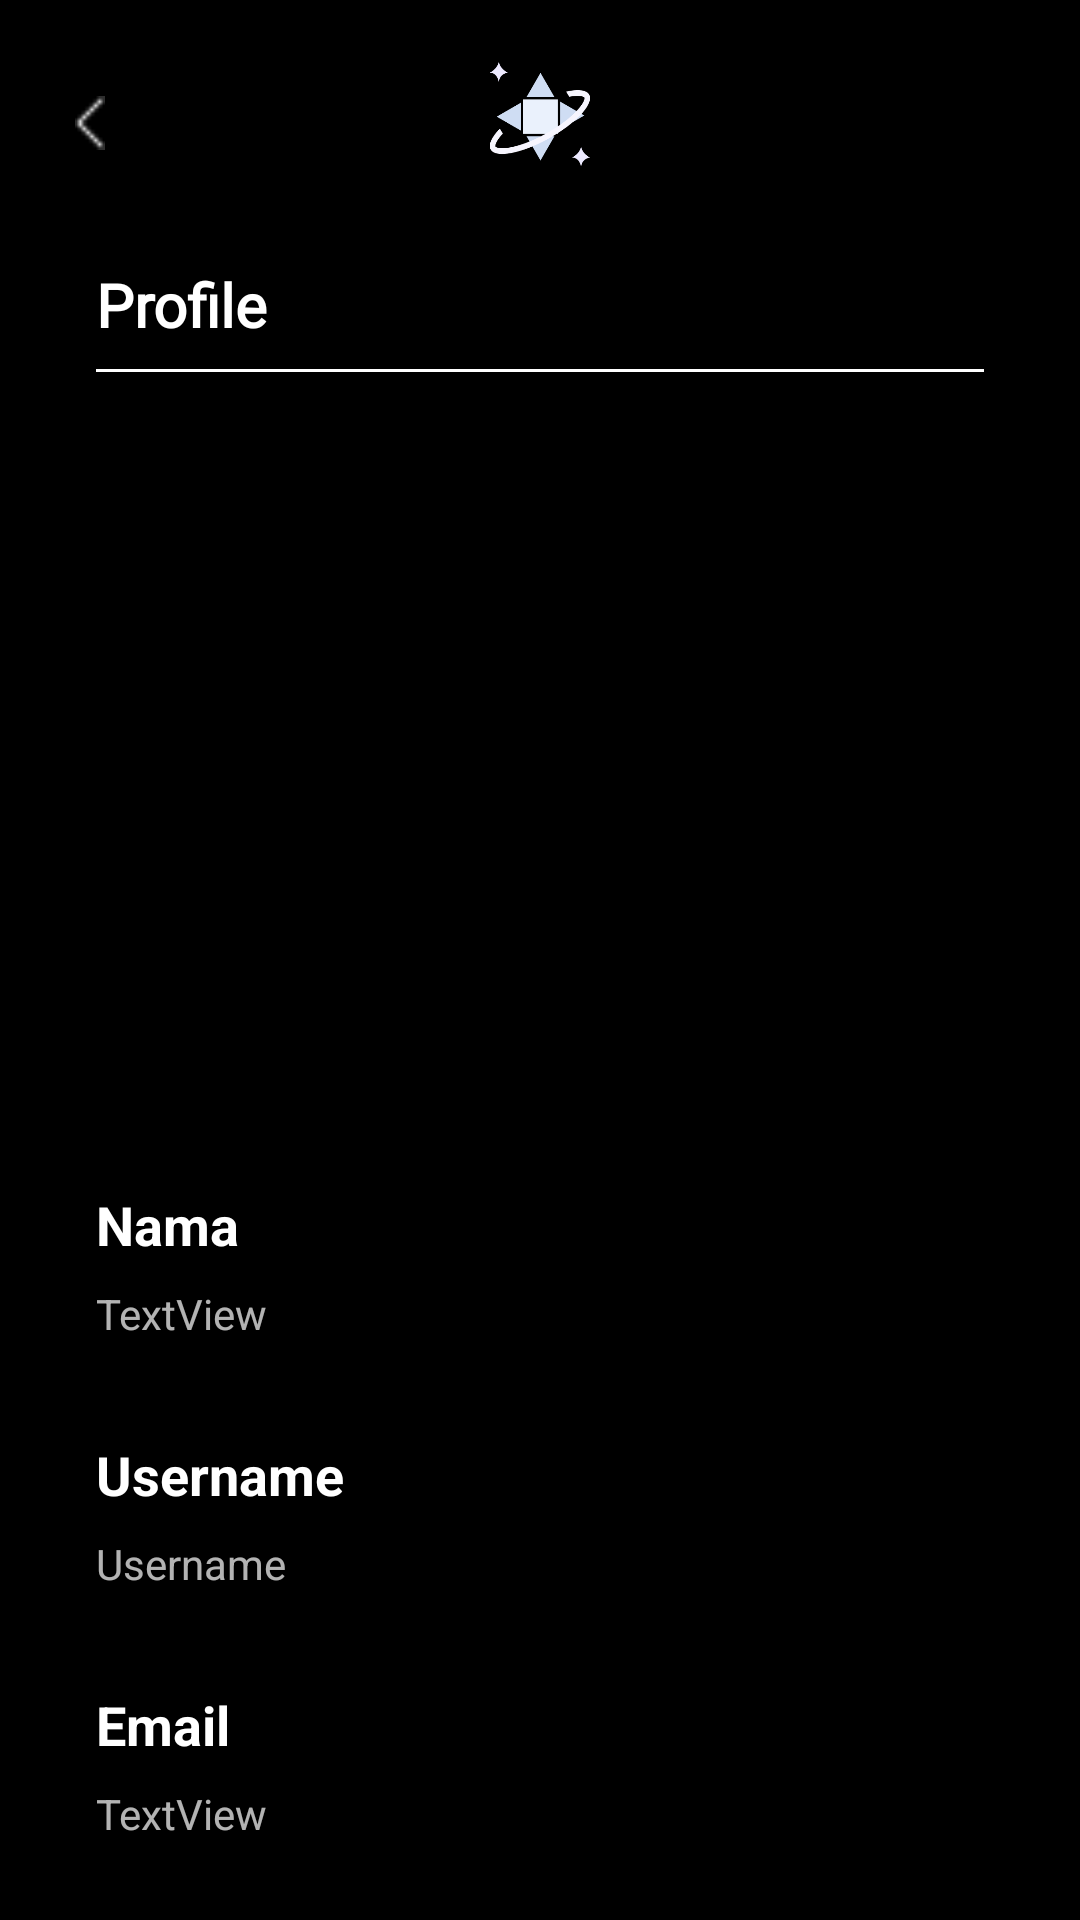

Icon bounding boxes for this 1080×1920 phone screenshot, format (x1, y1, x2, y2):
back: (75, 96, 105, 150)
